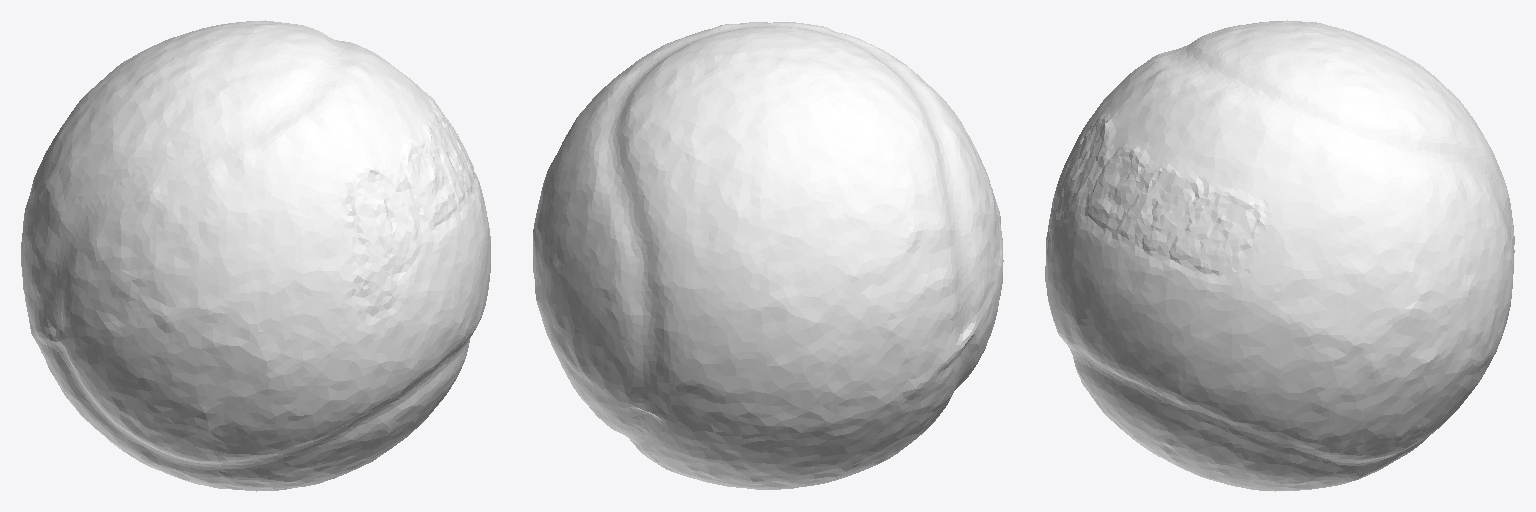
robot.urdf — tennis_ball:
<robot name="tennis_ball">
    <link name="base_link">
        <visual>
            <origin xyz="0.0 -0.0 -0.0" rpy="0.0 0.0 0.0" />
            <geometry>
                <mesh filename="tennis_ball/textured.obj" scale="1 1 1" />
            </geometry>
            <material name="texture">
                <color rgba="1.0 1.0 1.0 1.0" />
            </material>
        </visual>
        <collision>
            <origin xyz="0.0 -0.0 -0.0" rpy="0.0 0.0 0.0" />
            <geometry>
                <mesh filename="tennis_ball/textured_coacd_0.stl" scale="1 1 1" />
            </geometry>
        </collision>
        <inertial>
            <mass value="0.058" />
            <inertia ixx="1e-3" ixy="0.0" ixz="0.0" iyy="1e-3" iyz="0.0" izz="1e-3" />
        </inertial>
    </link>
</robot>

--- Render facts (derived) ---
Views: 3 orthographic renders of the robot side by side, from view 1: azimuth 30°, elevation 25°; view 2: azimuth 150°, elevation 25°; view 3: azimuth 270°, elevation 25°.
Model tennis_ball with 1 links and 0 joints (none), rooted at base_link, posed every joint at zero.
Links seen in each view (by area): view 1: base_link; view 2: base_link; view 3: base_link.
Boxes of the visible links, left/top/right/bottom form: base_link: left=21, top=20, right=490, bottom=491; base_link: left=533, top=22, right=1003, bottom=489; base_link: left=1045, top=20, right=1514, bottom=491.
Size in the robot's own frame: 0.0665 by 0.0667 by 0.0665 metres.
1 mesh visuals loaded from 1 distinct referenced files (1 OBJ).